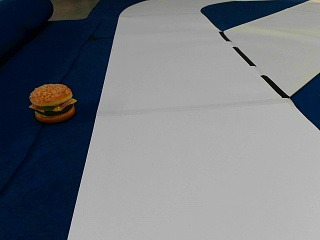burger: (29, 82, 77, 123)
